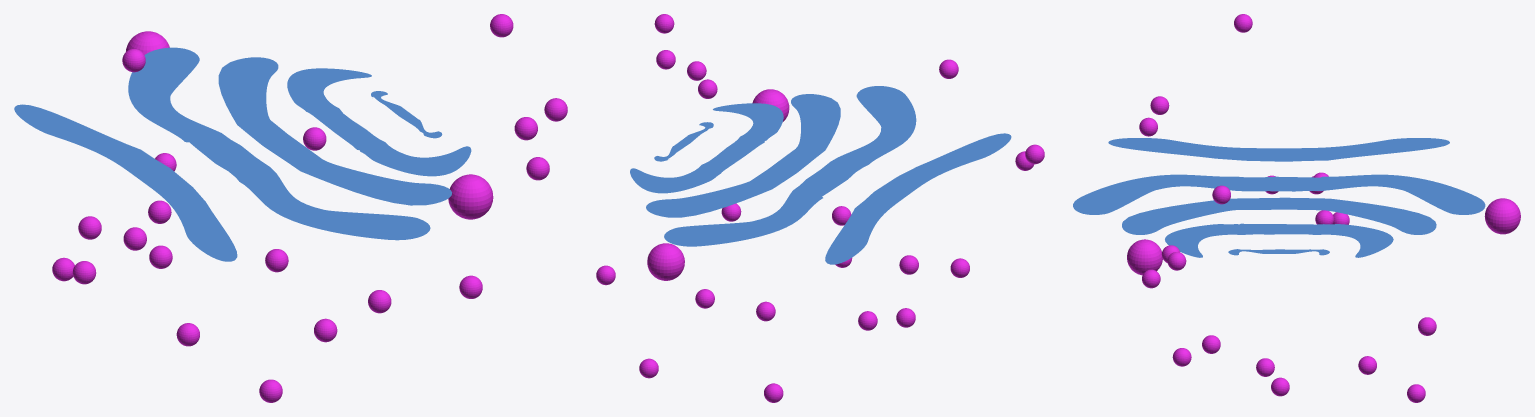
Rendered from golgi complex 2.gltf.
The picture shows the model from 3 angles, left to right: view 1: azimuth 30°, elevation 25°; view 2: azimuth 150°, elevation 25°; view 3: azimuth 270°, elevation 25°; orthographic projection. The views are drawn at different scales.
Parts seen in each view (by area): view 1: Golgi Liquid, Sphere, Sphere.020; view 2: Golgi Liquid, Sphere.020, Sphere; view 3: Golgi Liquid, Sphere.020, Sphere.
Part boxes in pixels (x1,y1,x2,y2): Golgi Liquid: (14,47,471,261); Sphere: (448,174,493,219); Sphere.020: (126,31,169,54); Golgi Liquid: (630,86,1011,264); Sphere.020: (647,243,684,280); Sphere: (752,89,789,121); Golgi Liquid: (1073,138,1485,257); Sphere.020: (1484,198,1520,234); Sphere: (1127,239,1162,275).
Size of the model in its own units: 5.36 by 4.36 by 5.76.
